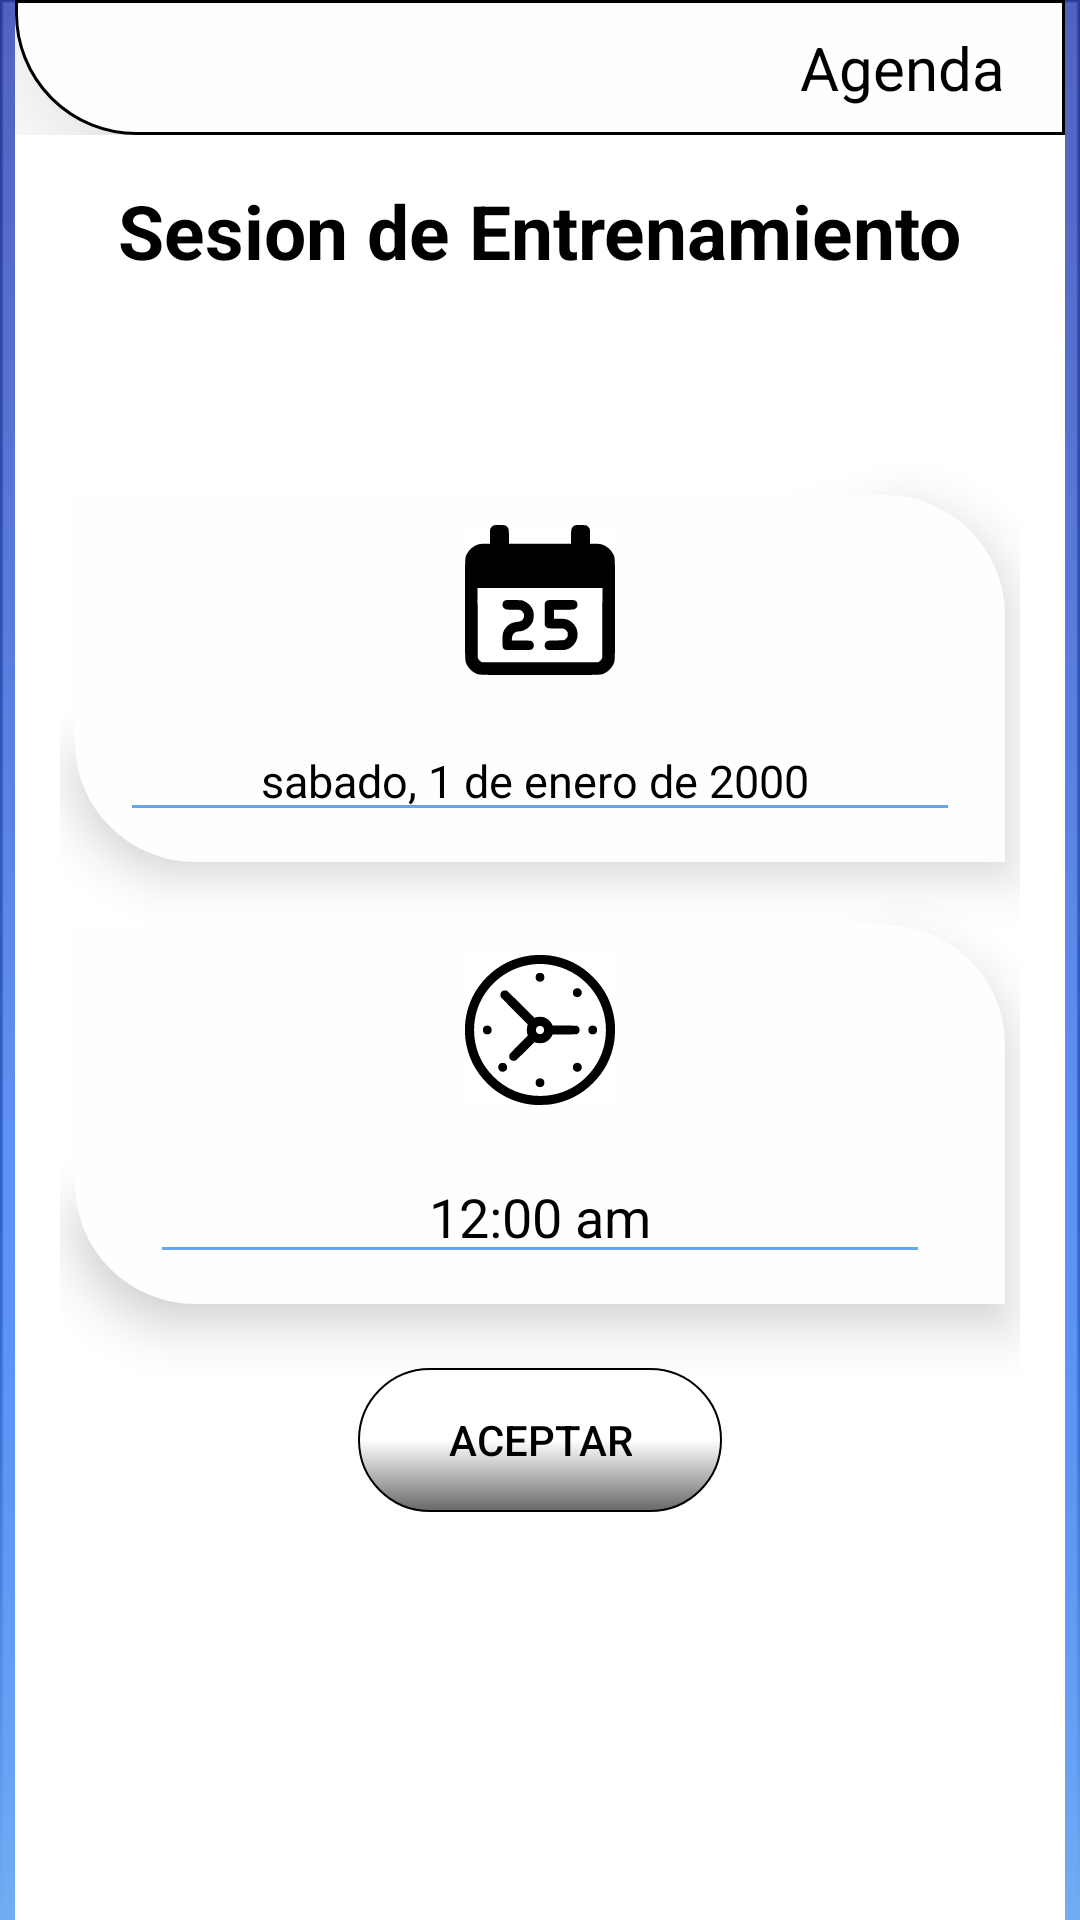

Where to tap for icons on this 1080 × 1920 app screen, as point (x, y):
hora: point (540, 1030)
